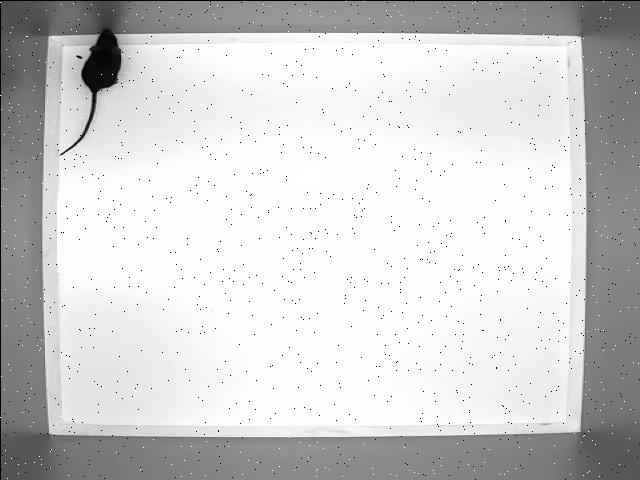Tikus: (59, 26, 119, 156)
